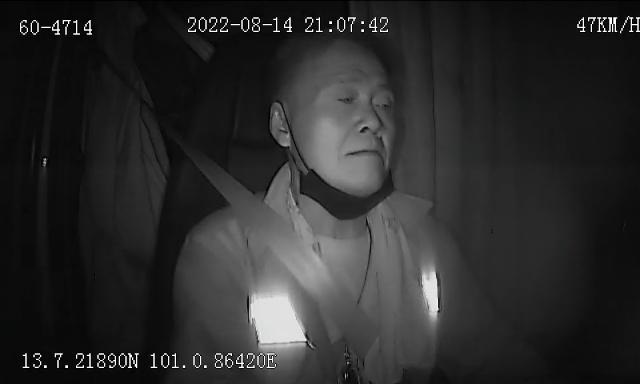Seatbelt: (179, 142, 379, 362)
